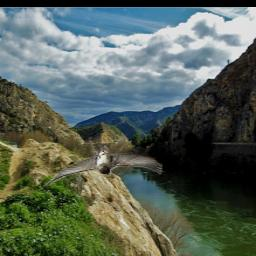Swallow: (43, 142, 162, 186)
